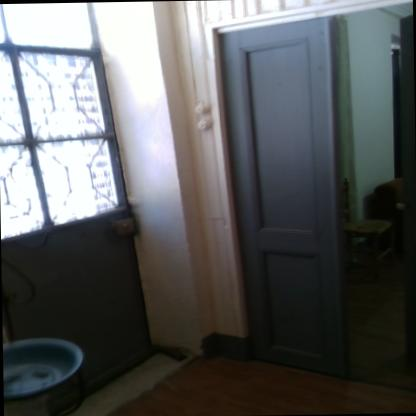semi: (210, 0, 416, 399)
